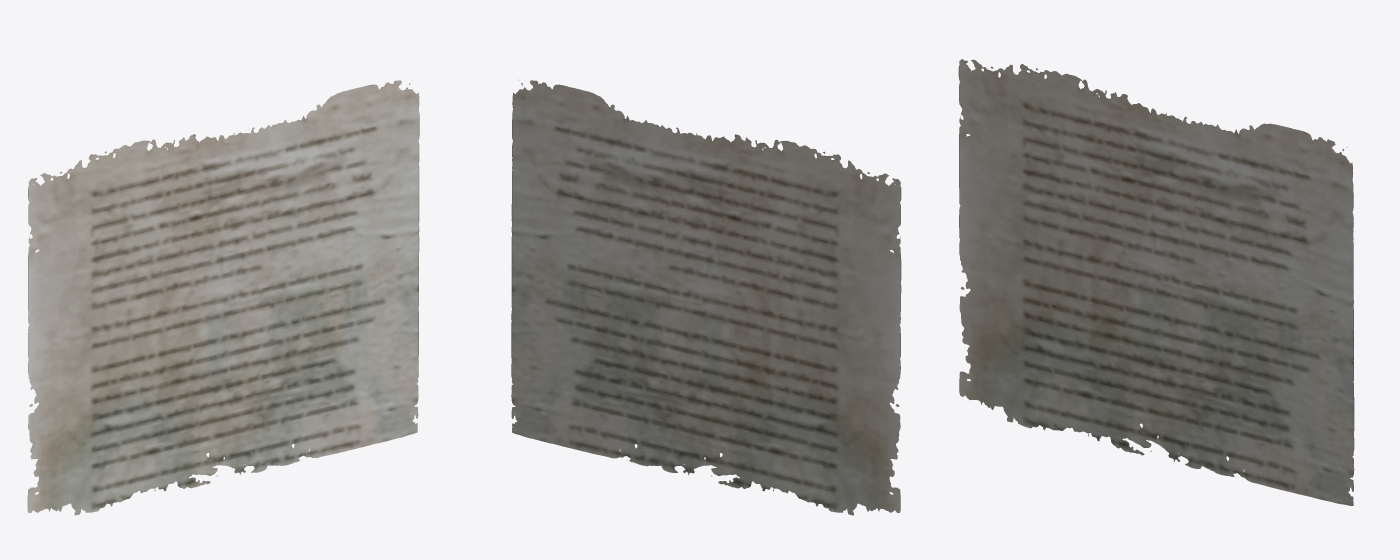
Rendered from Sticker_19.fbx.
3 renders of one model, left to right at view 1: azimuth 30°, elevation 25°; view 2: azimuth 150°, elevation 25°; view 3: azimuth 330°, elevation 25°, orthographic.
Visible parts, largest first — view 1: Sticker_19; view 2: Sticker_19; view 3: Sticker_19.
Part boxes in pixels (x1,y1,x2,y2): Sticker_19: [27, 80, 419, 515]; Sticker_19: [511, 80, 901, 515]; Sticker_19: [958, 59, 1354, 505].
Bounding box in the file's own units: 0.3713 × 0.3599 × 0.00202.
